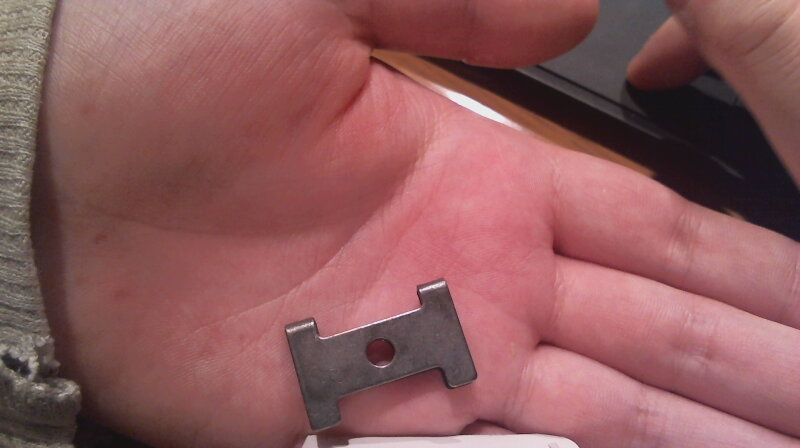O002: (276, 272, 481, 431)
